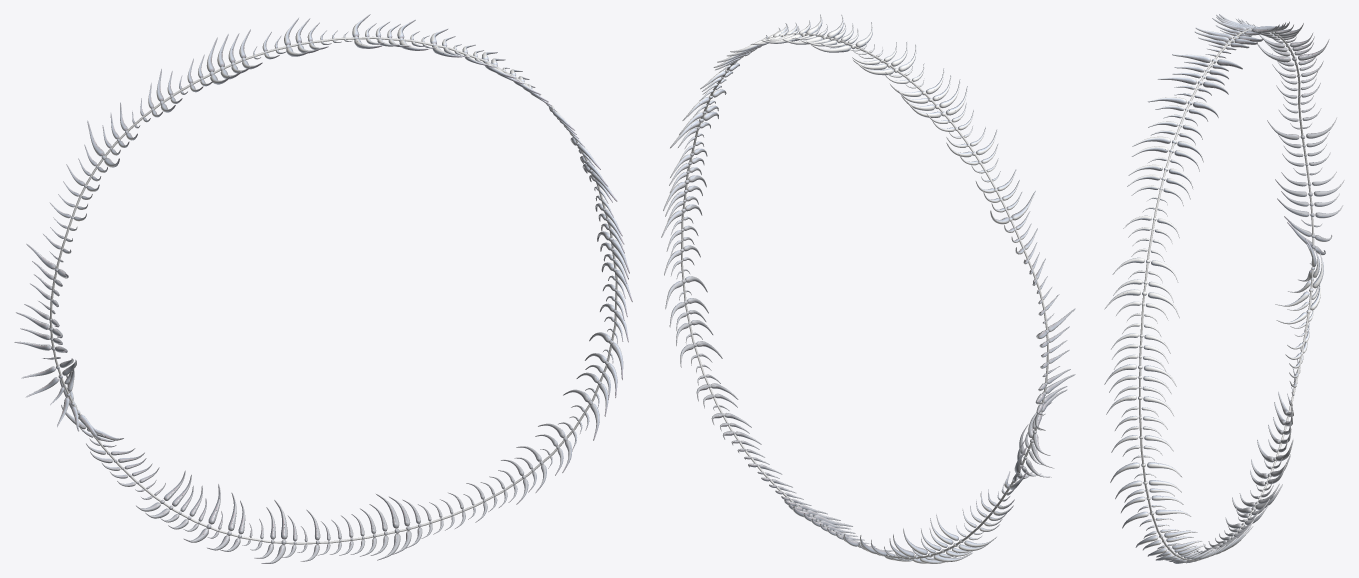
Rendered from bone.fbx.
The picture shows the model from 3 angles, left to right: view 1: azimuth 30°, elevation 25°; view 2: azimuth 150°, elevation 25°; view 3: azimuth 270°, elevation 25°; orthographic projection. The views are drawn at different scales.
Parts seen in each view (by area): view 1: 贝塞尔曲线.003; view 2: 贝塞尔曲线.003; view 3: 贝塞尔曲线.003.
Boxes of the visible parts, left/top/right/bottom form: 贝塞尔曲线.003: left=14, top=14, right=632, bottom=563; 贝塞尔曲线.003: left=661, top=14, right=1075, bottom=563; 贝塞尔曲线.003: left=1104, top=14, right=1344, bottom=563.
Bounding box in the file's own units: 64.23 × 142 × 144.
